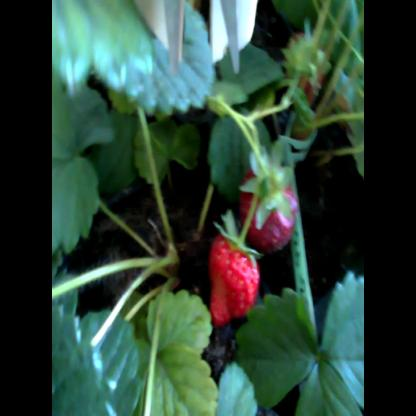ripe: (192, 222, 270, 332), (233, 171, 310, 253)
